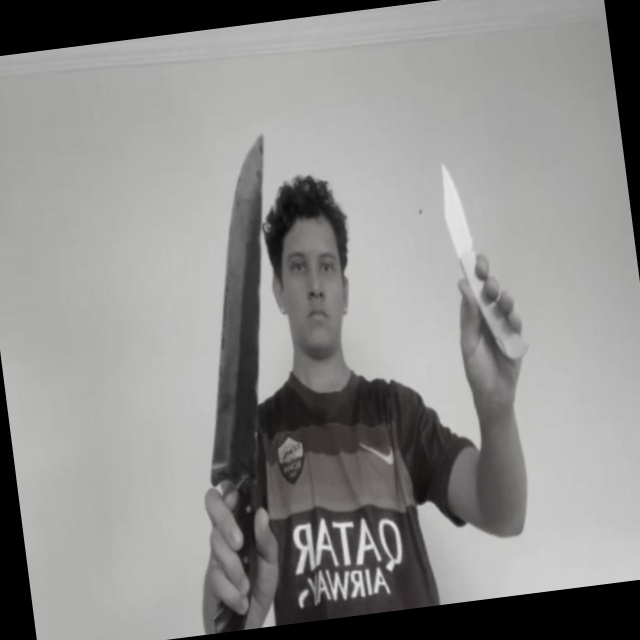Sharp-Object: (168, 132, 308, 492), (437, 160, 476, 254)
